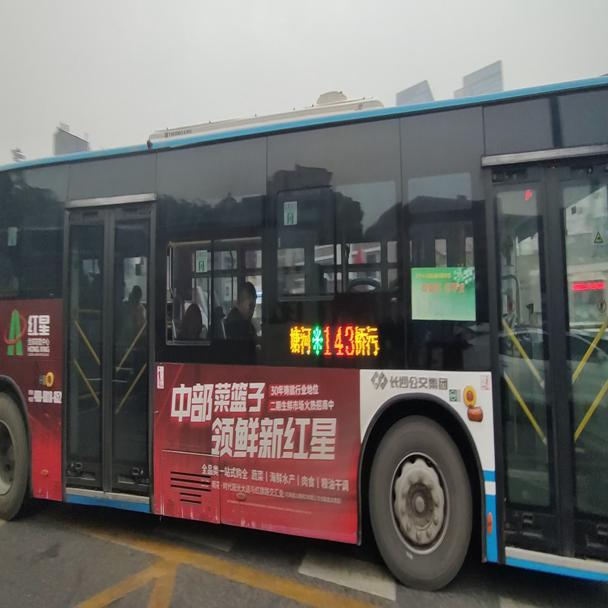bus: (0, 72, 607, 600)
screen: (322, 324, 354, 360)
